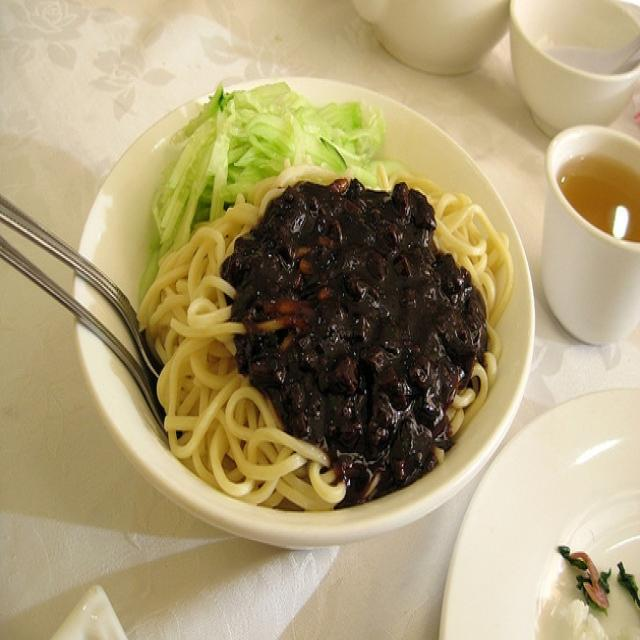面条主食: (76, 74, 542, 540)
